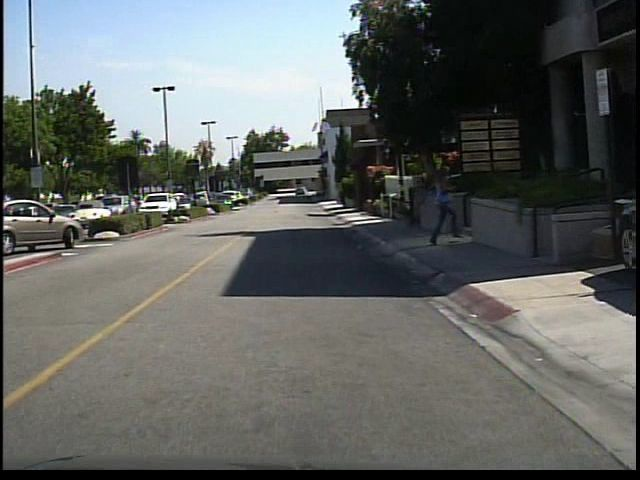person: (426, 159, 459, 250)
